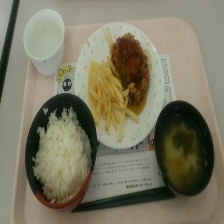rice: (31, 103, 93, 205)
